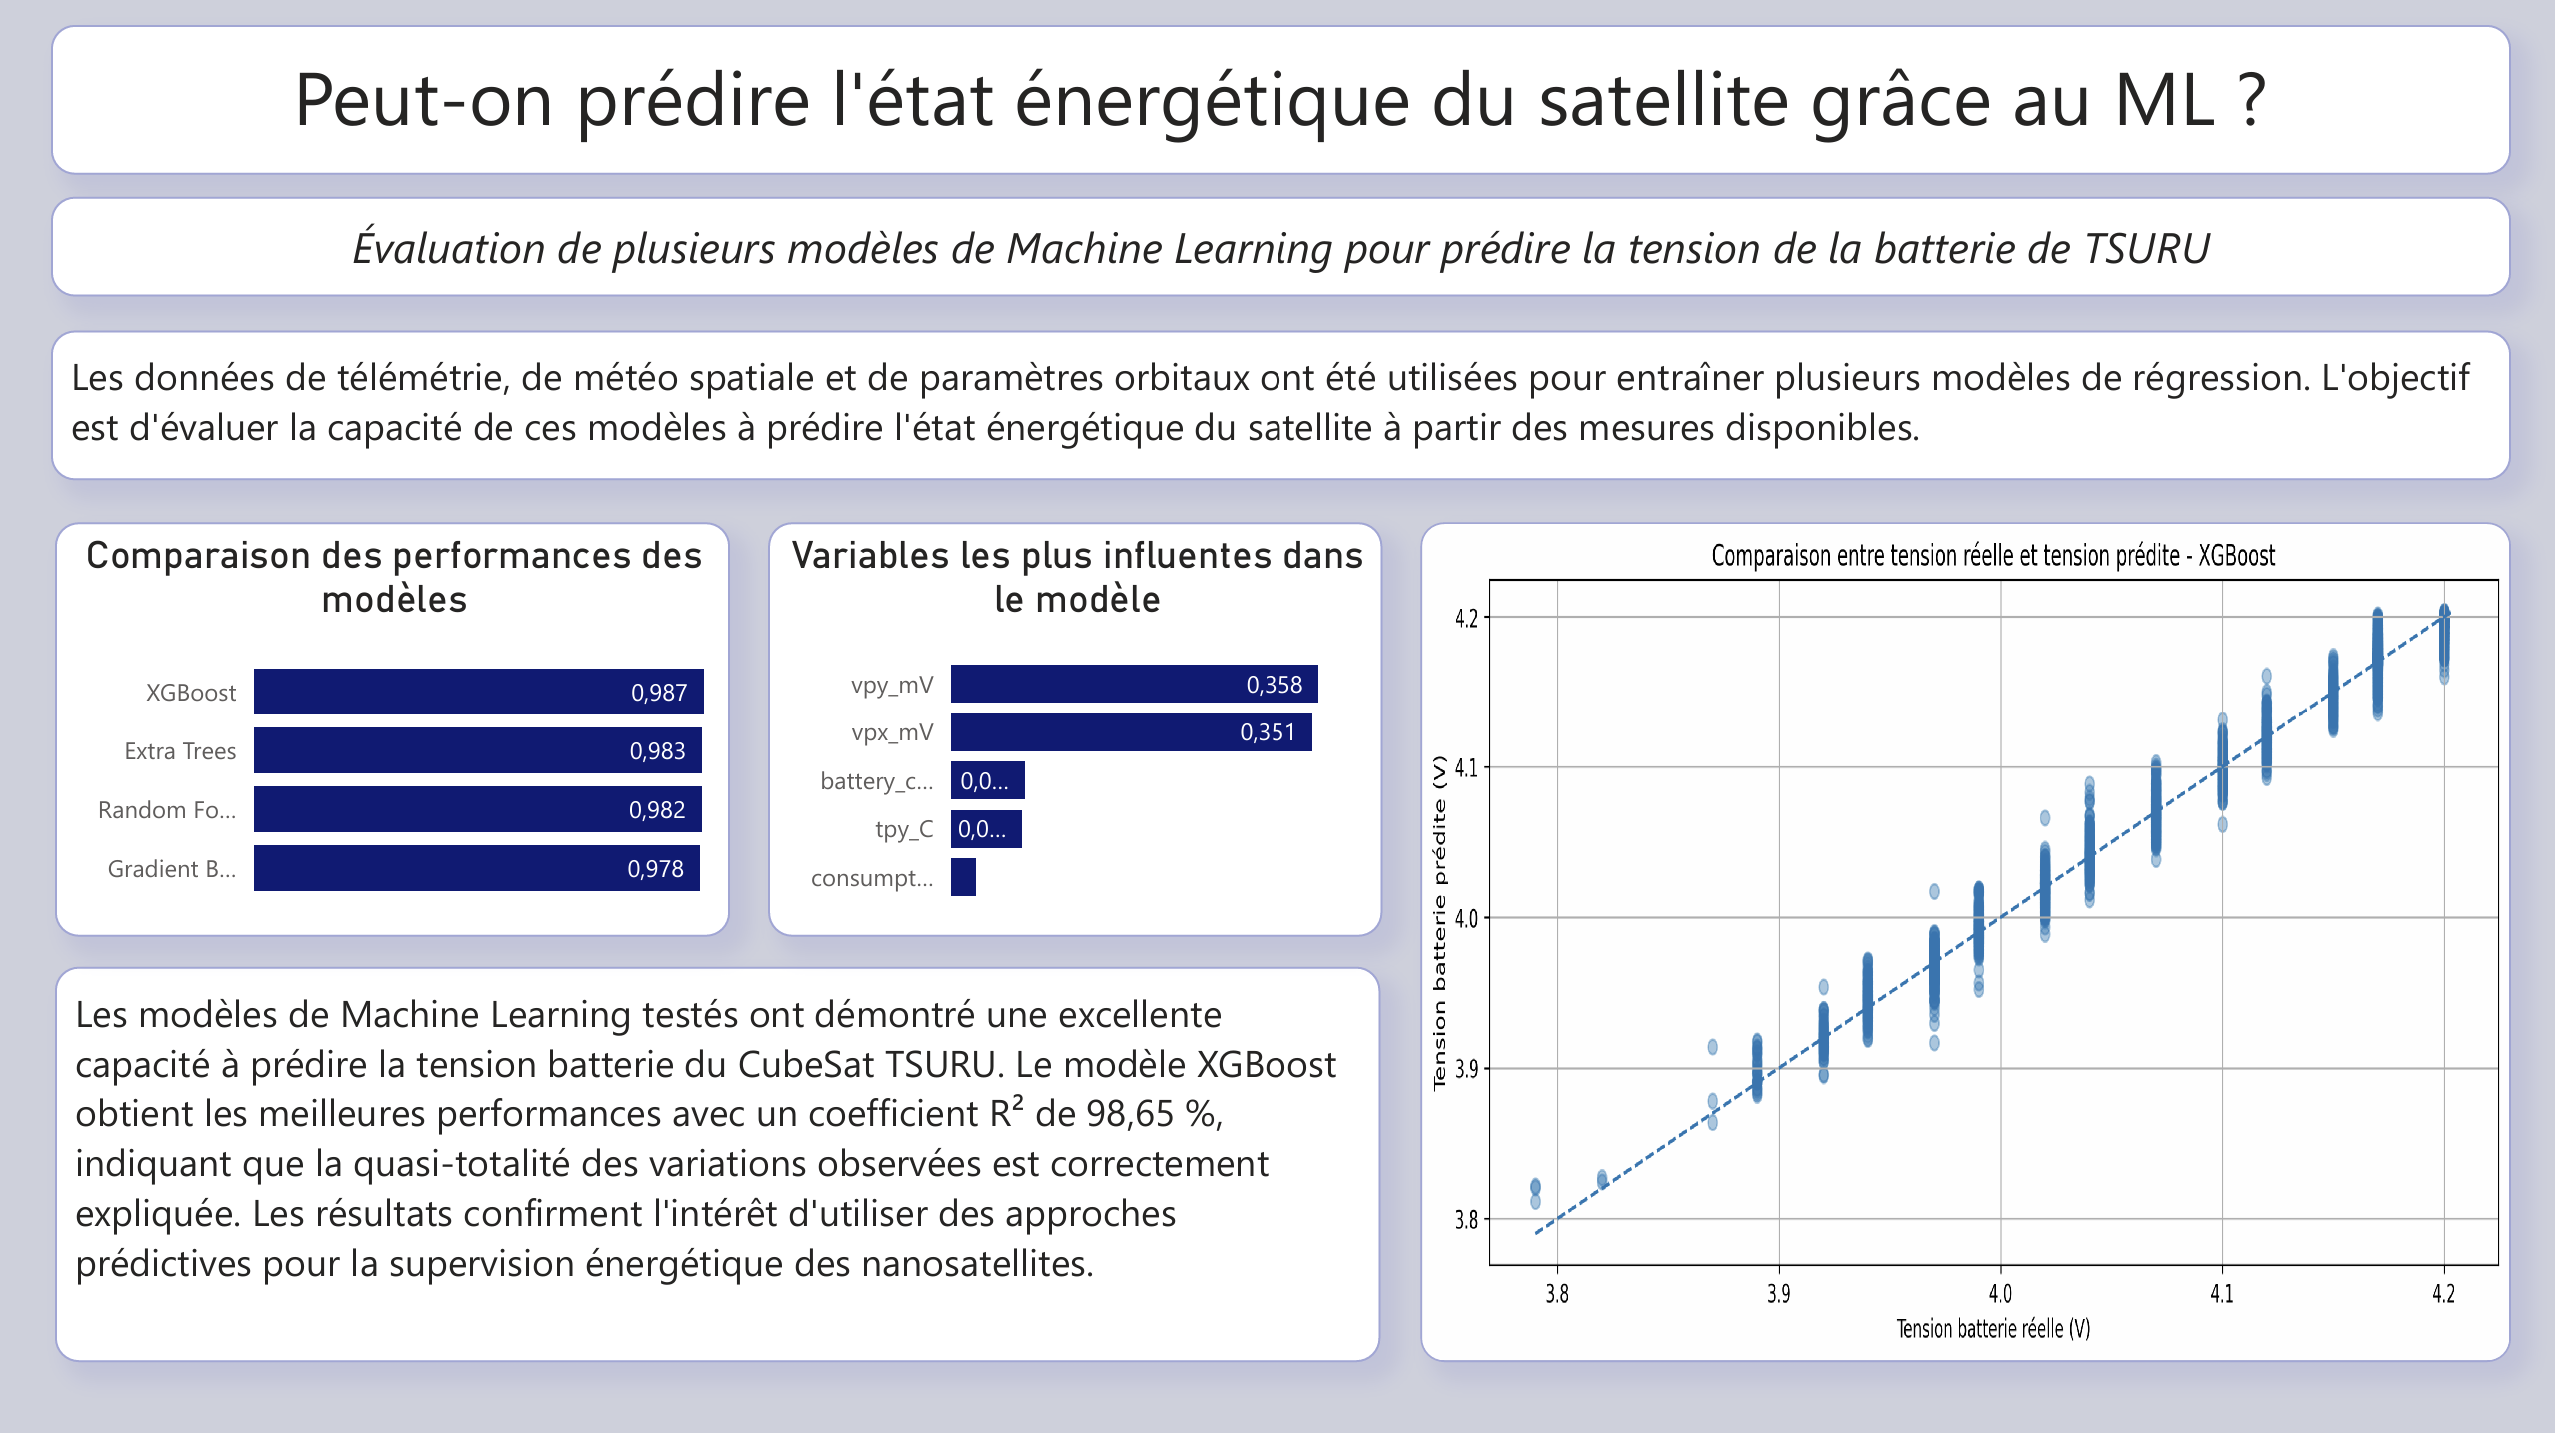

Layout of this report page (visuals, bound fields, positions):
{"tool":"powerbi","page":{"name":"06 Prédiction de l'état de la batterie","canvas":[1280,720],"ordinal":5},"visuals":[{"type":"textbox","box":[26.4,14.2,1231.2,75.2],"z":0},{"type":"textbox","box":[26.4,166.6,1231.2,75.2],"z":1000},{"type":"textbox","box":[27.6,486,664.7,198.3],"z":2000},{"type":"textbox","box":[26.4,99.6,1231.2,50.8],"z":3000},{"type":"barChart","title":"Comparaison des performances des modèles","fields":{"Category":["BIRDS_ML_model_metrics.model"],"Y":["Sum(BIRDS_ML_model_metrics.R2)"]},"box":[27.7,263.2,338,207.8],"z":4000},{"type":"barChart","title":"Variables les plus influentes dans le modèle","fields":{"Category":["BIRDS_ML_feature_importance.feature"],"Y":["Avg(BIRDS_ML_feature_importance.importance)"]},"box":[385.1,263.2,307.5,207.8],"z":5000},{"type":"image","box":[712,263.2,545.8,421.1],"z":6000}]}

Visuals, with their boxes in screenshot pixels (x1, y1, x2, y2), scaled from the page's 1280x720 canvas onto the 2555x1433 screenshot:
textbox: locate(53, 28, 2510, 178)
textbox: locate(53, 332, 2510, 481)
textbox: locate(55, 967, 1382, 1362)
textbox: locate(53, 198, 2510, 299)
"Comparaison des performances des modèles" barChart: locate(55, 524, 730, 937)
"Variables les plus influentes dans le modèle" barChart: locate(769, 524, 1382, 937)
image: locate(1421, 524, 2511, 1362)
